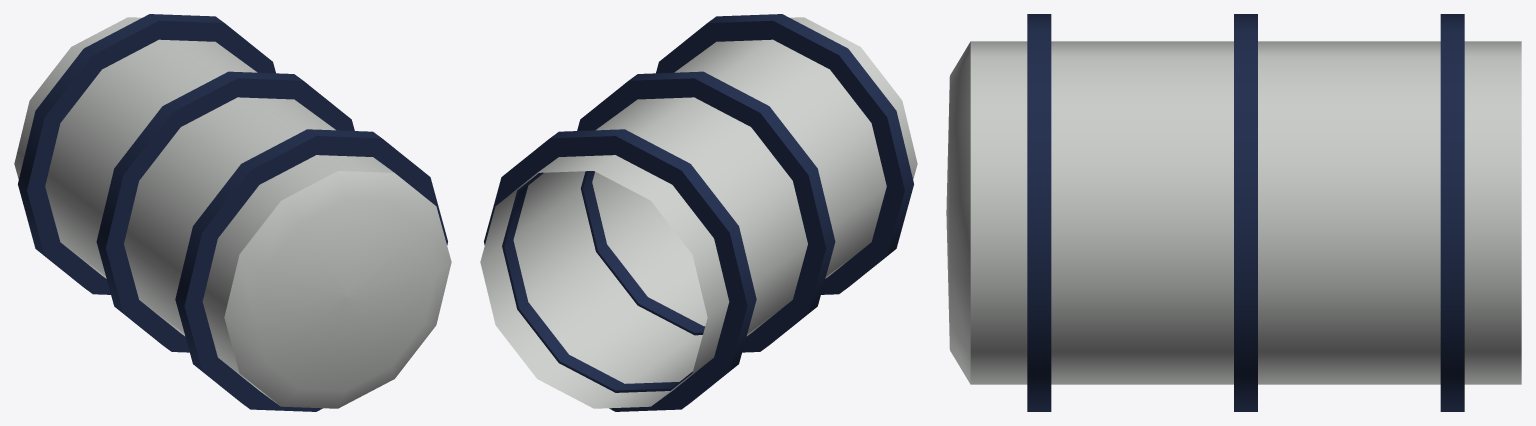
File: s60_vessel.obj
3 renders of one model, left to right at view 1: azimuth 30°, elevation 25°; view 2: azimuth 150°, elevation 25°; view 3: azimuth 270°, elevation 25°, orthographic. The views are drawn at different scales.
Visible parts, largest first — view 1: s60_vessel; view 2: s60_vessel; view 3: s60_vessel.
Part boxes in pixels (<box>): s60_vessel: <box>14,14,451,411</box>; s60_vessel: <box>480,14,917,411</box>; s60_vessel: <box>946,14,1521,411</box>.
Size of the model in its own units: 0.8366 by 0.8366 by 1.2.
